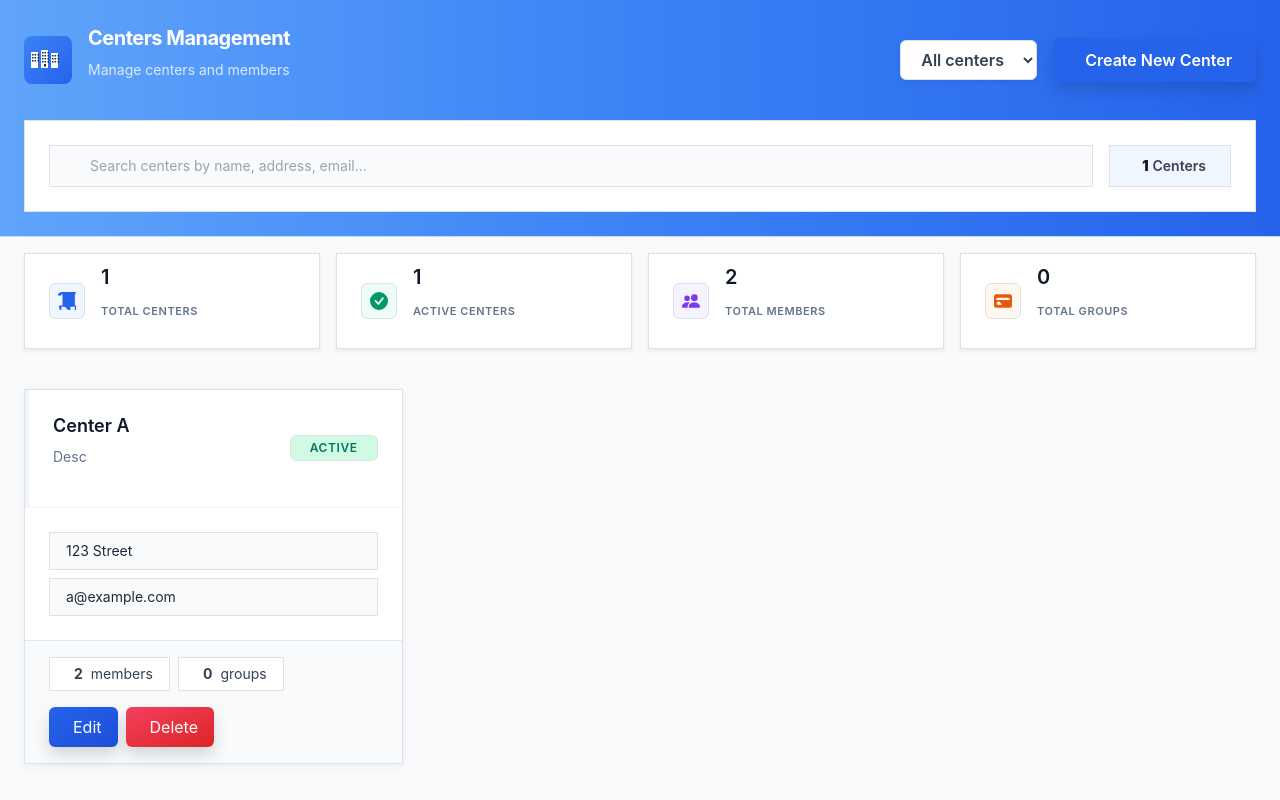
Test: CenterManagement › filters centers by search term
The width and height of the screenshot is (1280, 800).
Type "unknown" into the field with placeholder "Search centers by name, address, email...".
click(571, 166); type("unknown")  # box 49,145 -> 1093,187
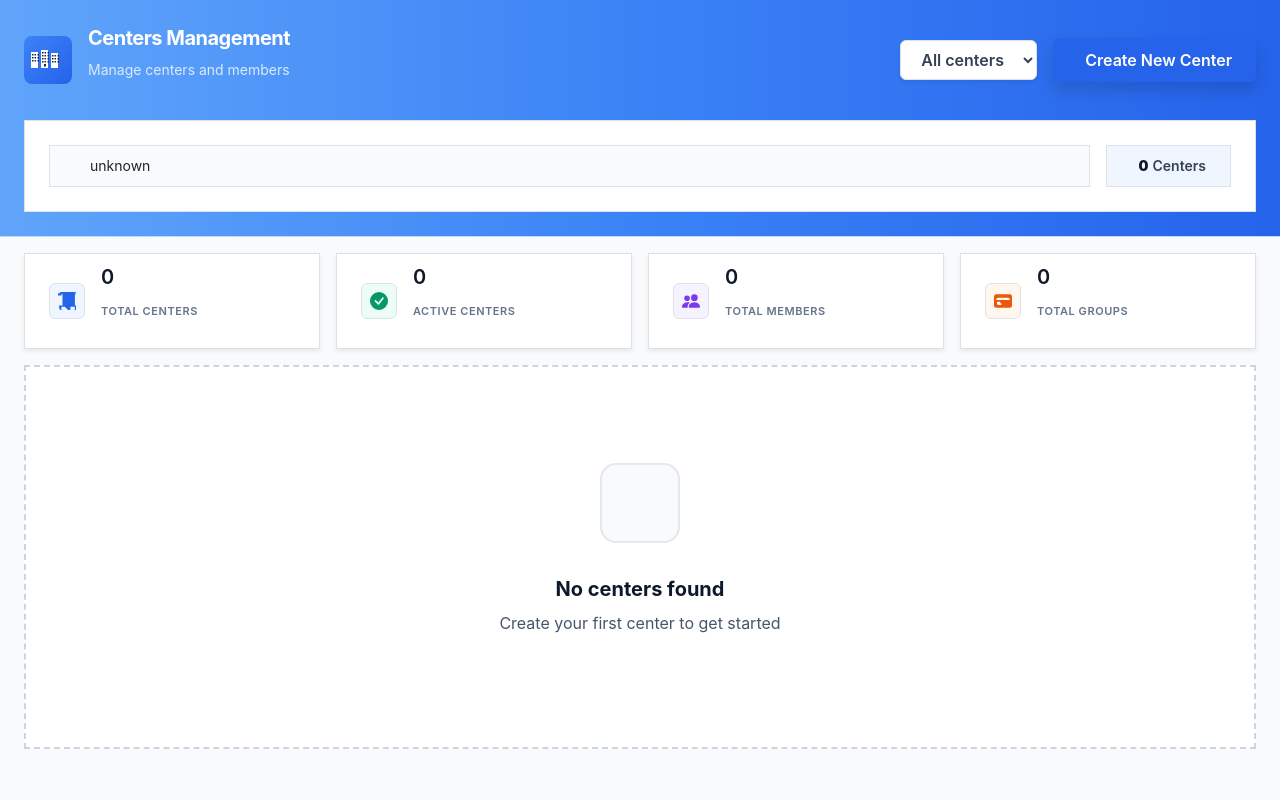
Expected: the heading "No centers found" is shown, 556,577 -> 724,601
